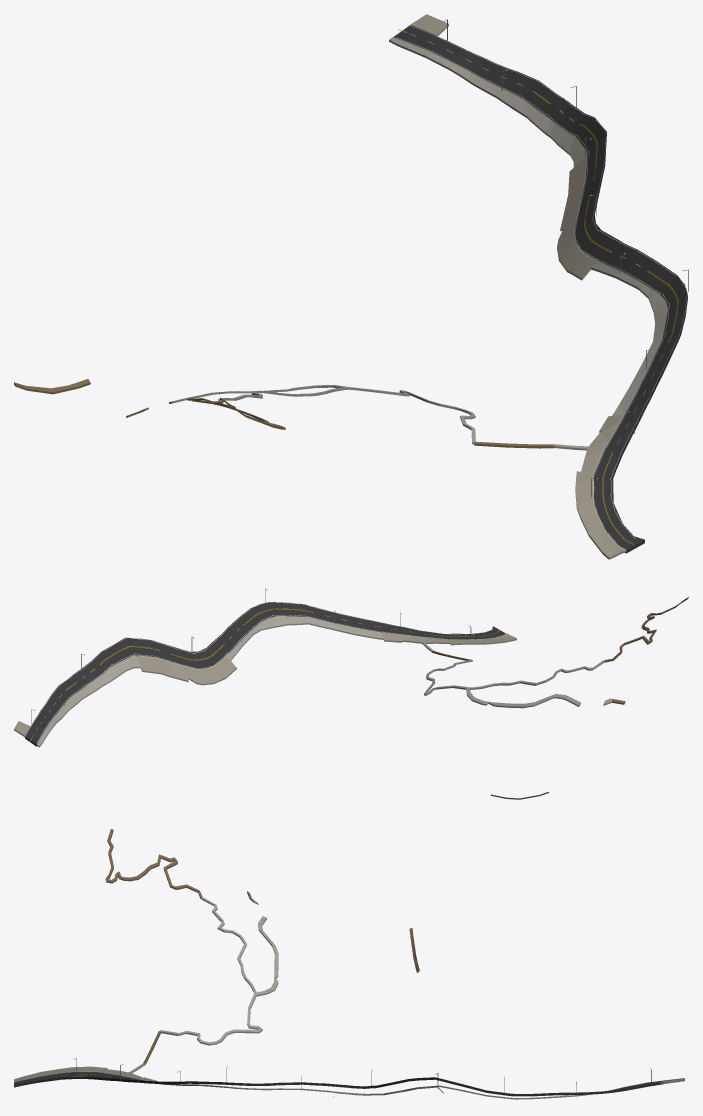
File: 17-109446-59495.8af00aee.glb
3 renders of one model, top to bottom at view 1: azimuth 30°, elevation 25°; view 2: azimuth 150°, elevation 25°; view 3: azimuth 270°, elevation 25°, orthographic. The views are drawn at different scales.
Bounding box in the file's own units: 228 × 66.3 × 293.
